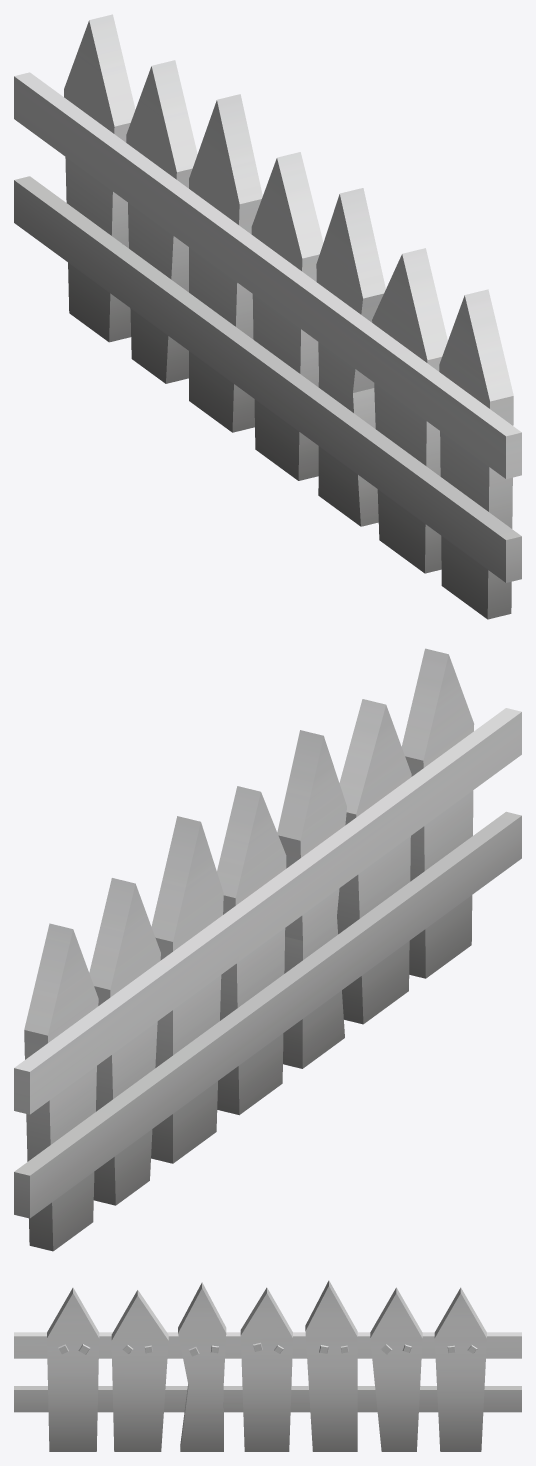
Rendered from Fence_1_A_1.glb.
3 renders of one model, top to bottom at view 1: azimuth 30°, elevation 25°; view 2: azimuth 150°, elevation 25°; view 3: azimuth 270°, elevation 25°, orthographic. The views are drawn at different scales.
Visible parts, largest first — view 1: Fence_1_A_1; view 2: Fence_1_A_1; view 3: Fence_1_A_1.
Boxes of the visible parts, x1,y1,x2,y2 form: Fence_1_A_1: [14, 14, 521, 619]; Fence_1_A_1: [14, 648, 521, 1251]; Fence_1_A_1: [14, 1280, 521, 1451].
Size of the model in its own units: 0.0986 by 0.711 by 1.97.
Materials: 2 (2 with a texture image).
